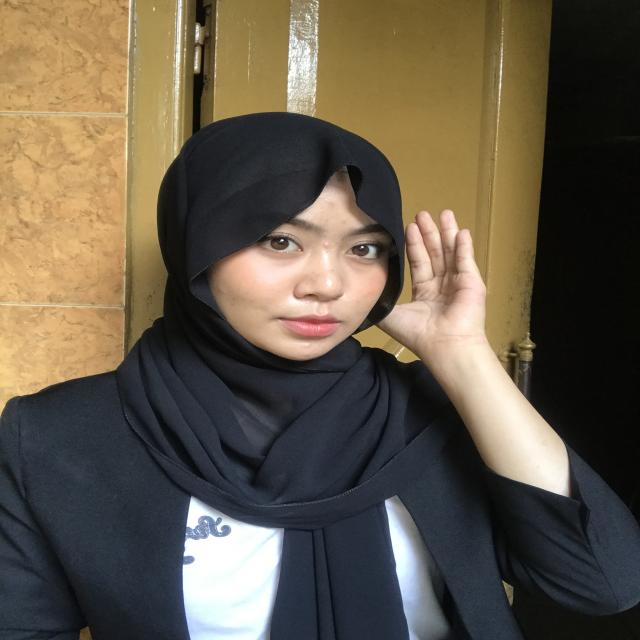mendengar: (389, 203, 513, 365)
